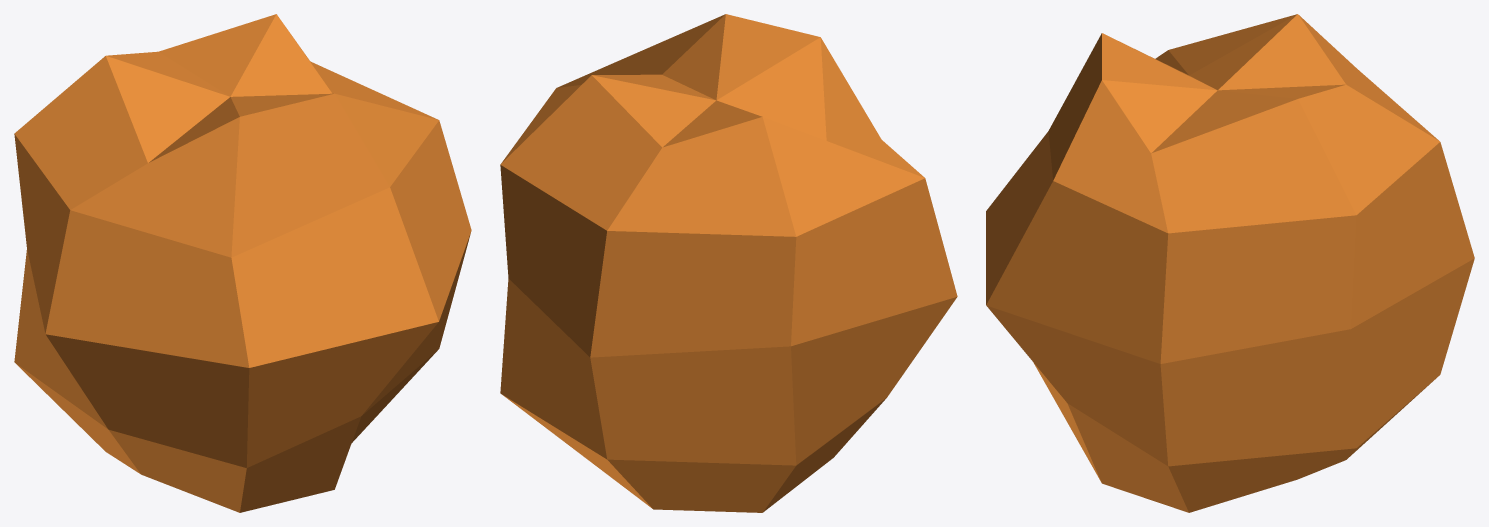
The model's file is meteor.fbx.
3 renders of one model, left to right at view 1: azimuth 30°, elevation 25°; view 2: azimuth 150°, elevation 25°; view 3: azimuth 270°, elevation 25°, orthographic.
Visible parts, largest first — view 1: Sphere; view 2: Sphere; view 3: Sphere.
Boxes of the visible parts, x1,y1,x2,y2 form: Sphere: (14,14,471,512); Sphere: (500,14,957,512); Sphere: (986,14,1474,512).
Size of the model in its own units: 195 by 173 by 190.
